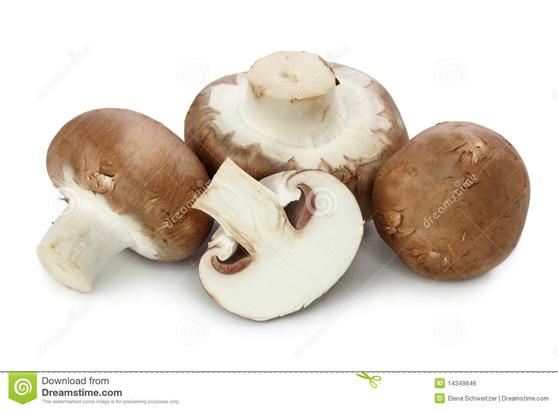champignon: (39, 106, 210, 296), (188, 157, 364, 319), (368, 112, 528, 287)
